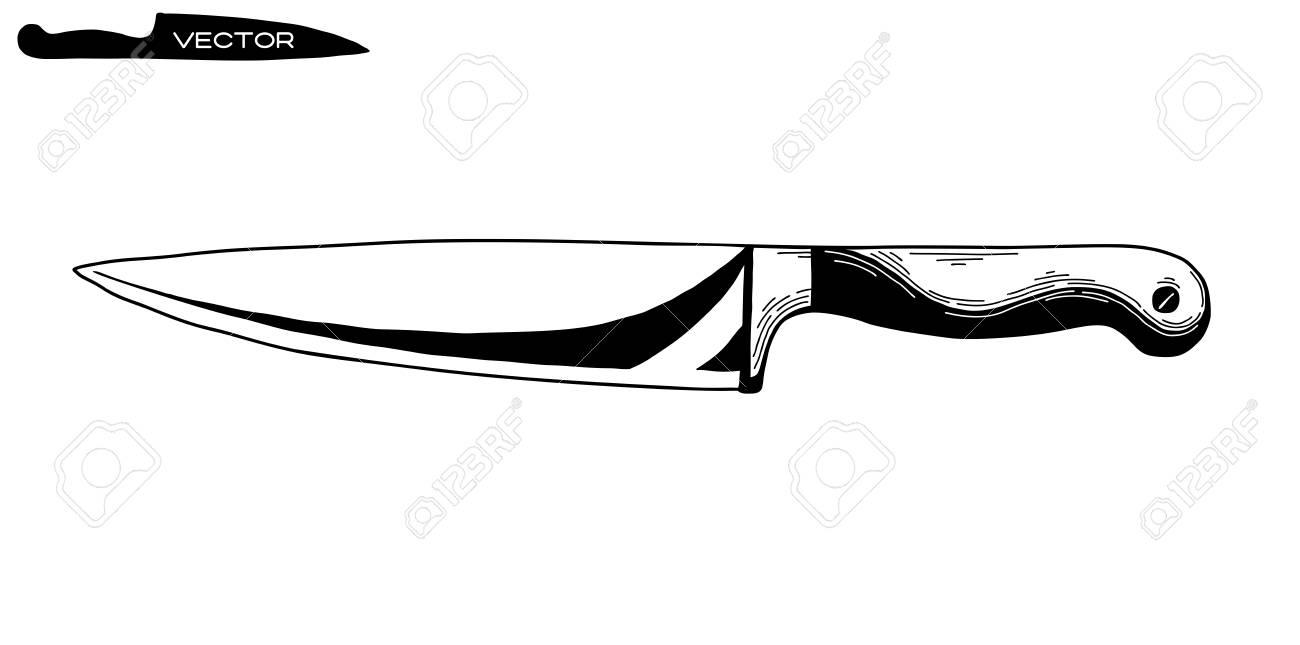Knife: (73, 238, 1211, 394)
